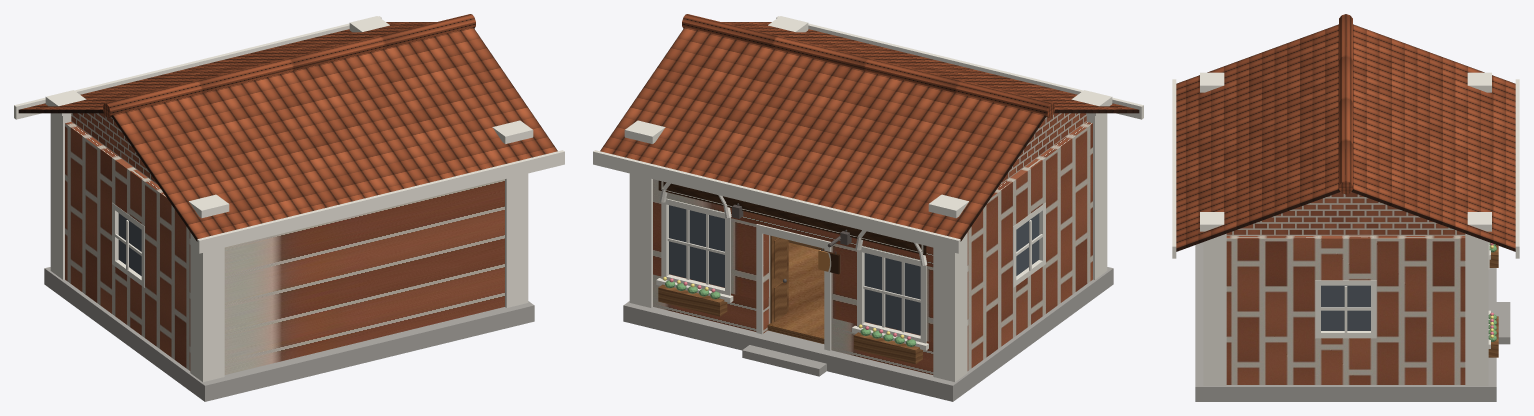
File: roti-kopi-toko-blender-v1.glb
3 renders of one model, left to right at view 1: azimuth 30°, elevation 25°; view 2: azimuth 150°, elevation 25°; view 3: azimuth 270°, elevation 25°, orthographic. The views are drawn at different scales.
Parts seen in each view (by area): view 1: toko_roof, toko_brick, toko_cream, toko_stone, toko_glass; view 2: toko_roof, toko_brick, toko_cream, toko_stone, toko_glass, toko_wood, toko_sign, toko_plant; view 3: toko_roof, toko_brick, toko_cream, toko_stone, toko_glass, toko_wood.
Boxes of the visible parts, left/top/right/bottom form: toko_roof: left=18, top=14, right=557, bottom=241; toko_brick: left=65, top=113, right=504, bottom=374; toko_cream: left=14, top=16, right=564, bottom=381; toko_stone: left=44, top=267, right=534, bottom=401; toko_glass: left=118, top=213, right=141, bottom=275; toko_roof: left=600, top=14, right=1139, bottom=241; toko_brick: left=653, top=113, right=1092, bottom=374; toko_cream: left=593, top=16, right=1143, bottom=381; toko_stone: left=623, top=267, right=1113, bottom=401; toko_glass: left=669, top=205, right=1039, bottom=335; toko_wood: left=658, top=235, right=922, bottom=364; toko_sign: left=658, top=180, right=926, bottom=274; toko_plant: left=663, top=276, right=915, bottom=346; toko_roof: left=1176, top=14, right=1515, bottom=251; toko_brick: left=1226, top=192, right=1465, bottom=384; toko_cream: left=1172, top=72, right=1519, bottom=385; toko_stone: left=1195, top=242, right=1510, bottom=401; toko_glass: left=1321, top=285, right=1370, bottom=330; toko_wood: left=1488, top=245, right=1498, bottom=357.
Size of the model in its own units: 7.1 by 4.53 by 6.23.
17 materials, 5 textured.
